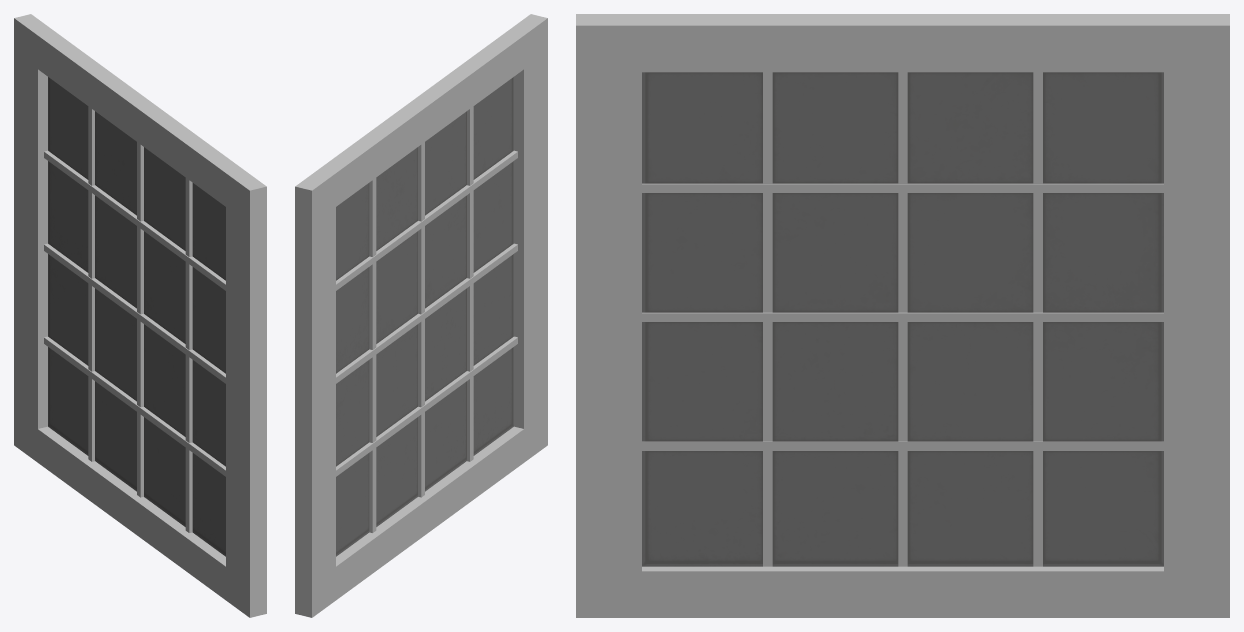
The model's file is SM_WindowA_01.FBX.
3 renders of one model, left to right at view 1: azimuth 30°, elevation 25°; view 2: azimuth 150°, elevation 25°; view 3: azimuth 270°, elevation 25°, orthographic. The views are drawn at different scales.
Visible parts, largest first — view 1: SM_WindowA_01; view 2: SM_WindowA_01; view 3: SM_WindowA_01.
Part boxes in pixels (<box>): SM_WindowA_01: <box>14,14,266,617</box>; SM_WindowA_01: <box>295,14,547,617</box>; SM_WindowA_01: <box>576,14,1229,617</box>.
Size of the model in its own units: 12.5 by 300 by 300.
